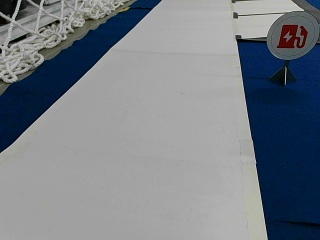battery: (266, 10, 317, 59)
